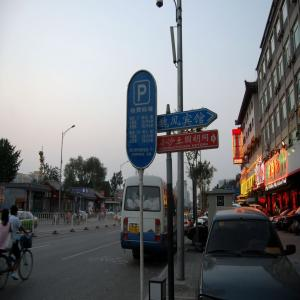Vehicle-registration-plate: (130, 225, 140, 236)
